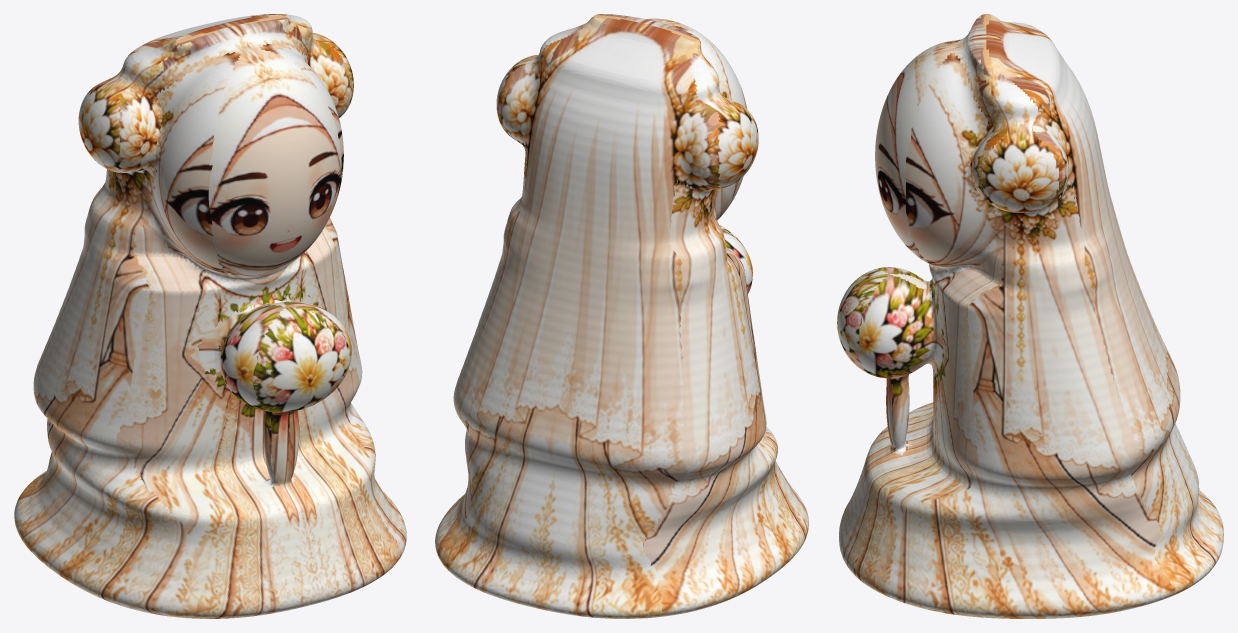
The model's file is bride.glb.
The picture shows the model from 3 angles, left to right: view 1: azimuth 30°, elevation 25°; view 2: azimuth 150°, elevation 25°; view 3: azimuth 270°, elevation 25°; orthographic projection. The views are drawn at different scales.
Visible parts, largest first — view 1: PengantinHijab3D; view 2: PengantinHijab3D; view 3: PengantinHijab3D.
Boxes of the visible parts, box(x1,y1,x2,y2) form: PengantinHijab3D: box(14, 14, 406, 618); PengantinHijab3D: box(435, 14, 808, 618); PengantinHijab3D: box(837, 14, 1223, 618).
Size of the model in its own units: 0.9672 by 1.61 by 1.05.
1 material, 1 textured.
